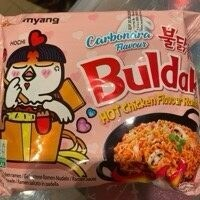Buldak Hot Chicken: (10, 10, 190, 190)
